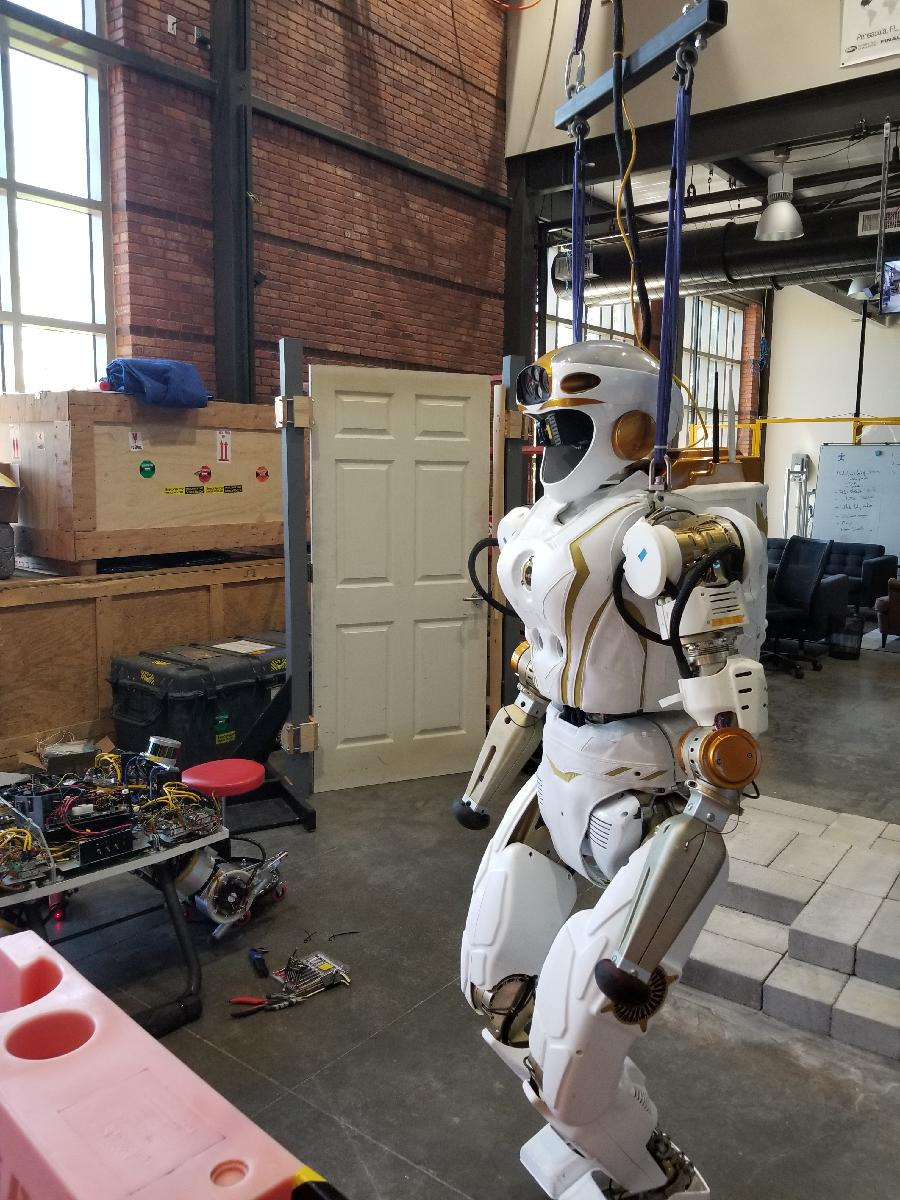door: (304, 360, 497, 798)
doorHandle: (454, 590, 490, 612)
